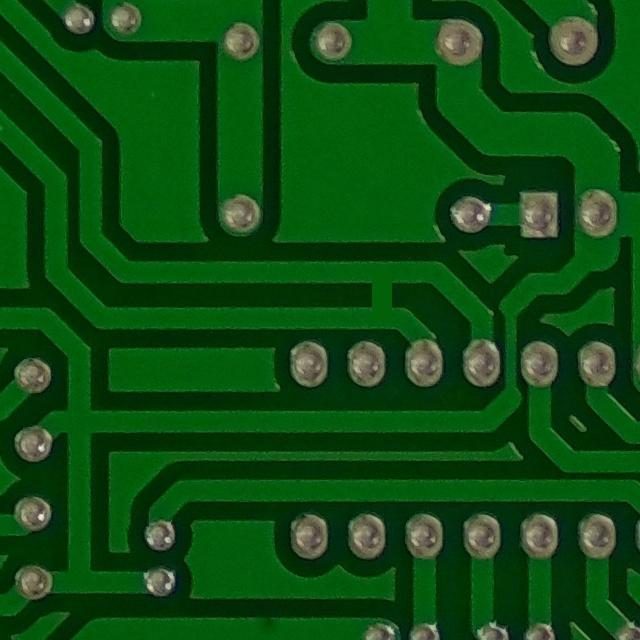short: (340, 255, 425, 330)
